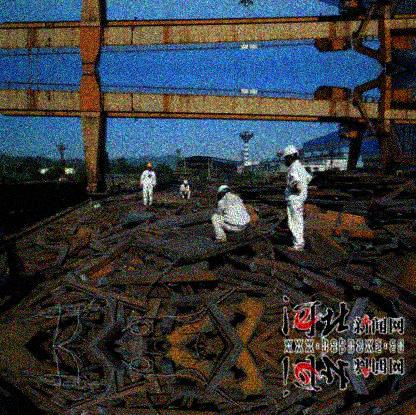helmet: (282, 145, 296, 166), (147, 162, 153, 172)
